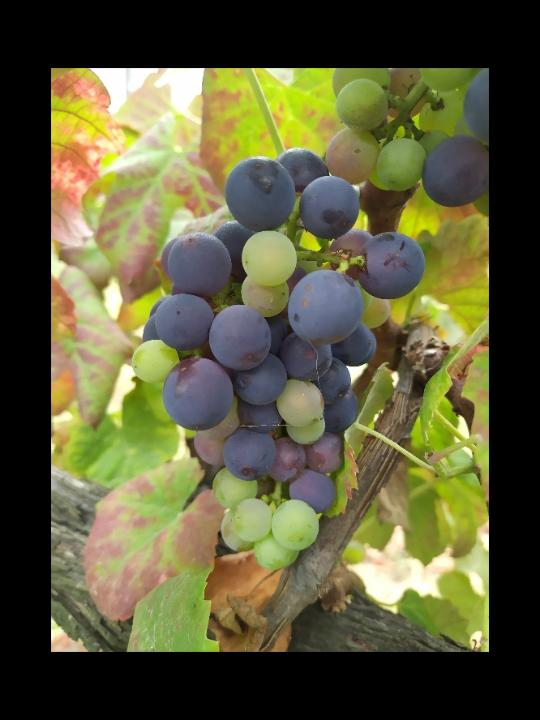grape: (130, 147, 429, 572)
